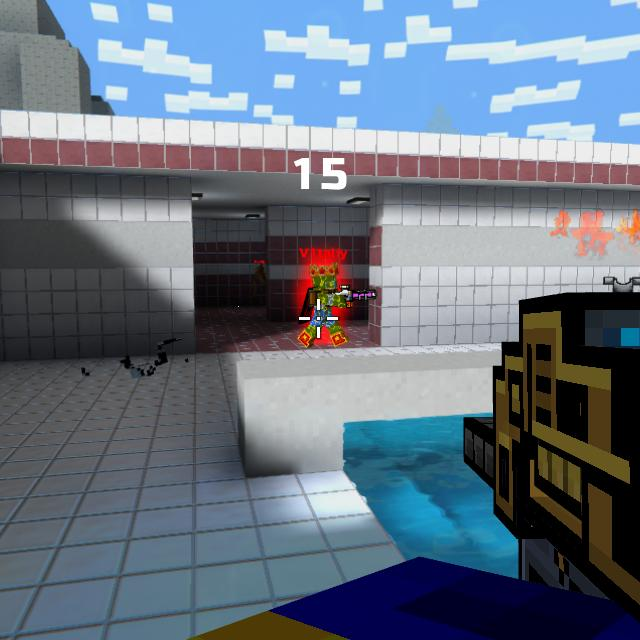Enemy: (297, 268, 349, 348)
